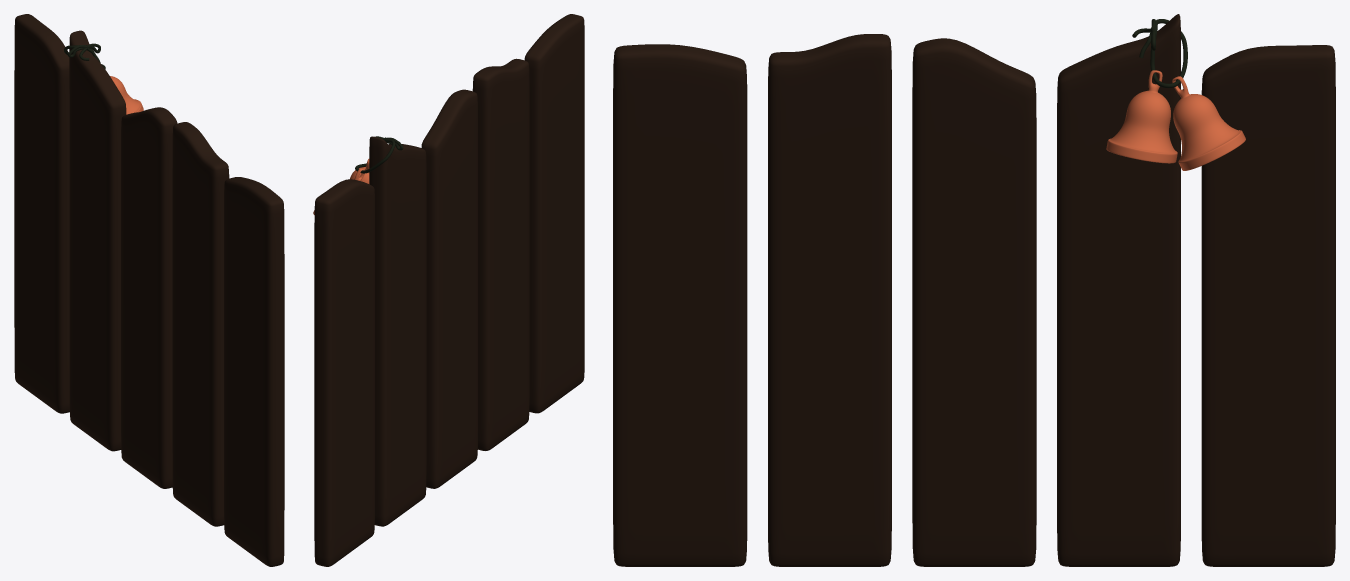
The model's file is fence_with_bells.obj.
3 views of the same model, side by side, from view 1: azimuth 30°, elevation 25°; view 2: azimuth 150°, elevation 25°; view 3: azimuth 270°, elevation 25° (orthographic). The views are drawn at different scales.
Visible parts, largest first — view 1: Cube.054, Sphere.047; view 2: Cube.054; view 3: Cube.054, Sphere.048, Sphere.047.
Part boxes in pixels (x1,y1,x2,y2): Cube.054: (14, 14, 284, 566); Sphere.047: (110, 76, 143, 114); Cube.054: (314, 14, 584, 566); Cube.054: (613, 14, 1335, 566); Sphere.048: (1172, 76, 1245, 170); Sphere.047: (1106, 70, 1177, 163).
Size of the model in its own units: 0.793 by 4.31 by 5.16.
